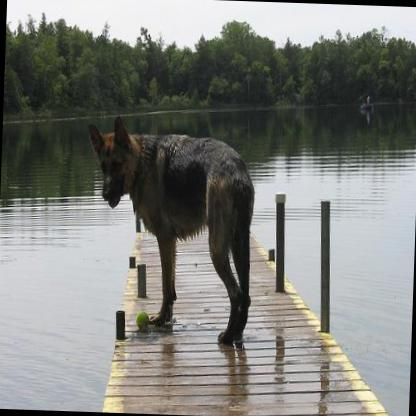German_shepherd: (78, 113, 258, 348)
